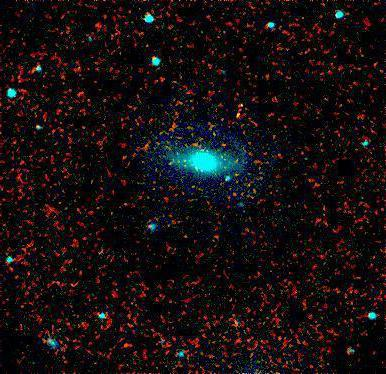star: (231, 94, 261, 124)
